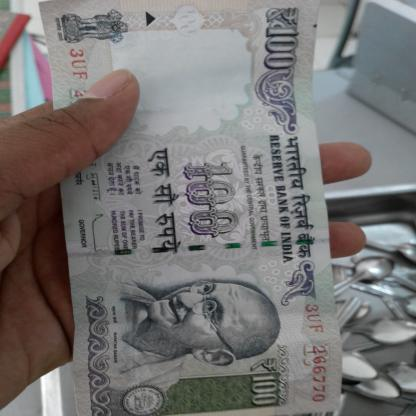Old100Front: (35, 0, 342, 416)
